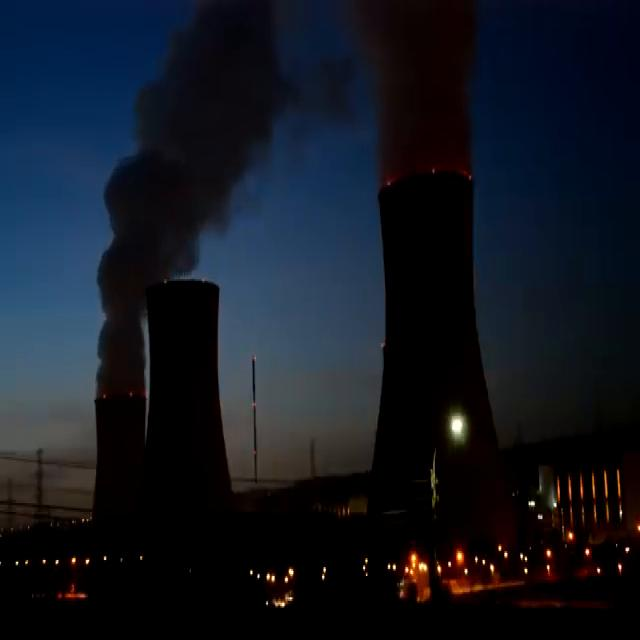smoke: (94, 0, 359, 427), (350, 0, 476, 174)
